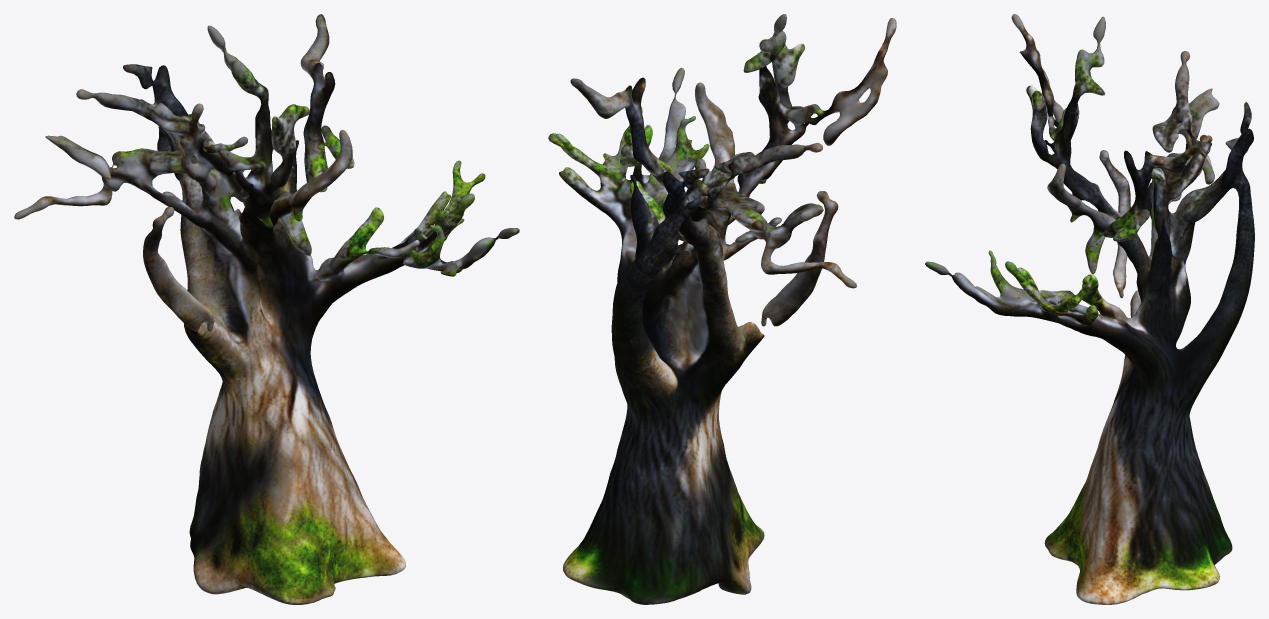
File: Lumina.glb
The picture shows the model from 3 angles, left to right: view 1: azimuth 30°, elevation 25°; view 2: azimuth 150°, elevation 25°; view 3: azimuth 270°, elevation 25°; orthographic projection. The views are drawn at different scales.
Parts seen in each view (by area): view 1: high_poly; view 2: high_poly; view 3: high_poly.
Part boxes in pixels (left/top/right/bottom): high_poly: left=14, top=14, right=519, bottom=604; high_poly: left=548, top=14, right=896, bottom=604; high_poly: left=925, top=14, right=1254, bottom=604.
Size of the model in its own units: 0.7027 by 1 by 0.5835.
1 material, 1 textured.
